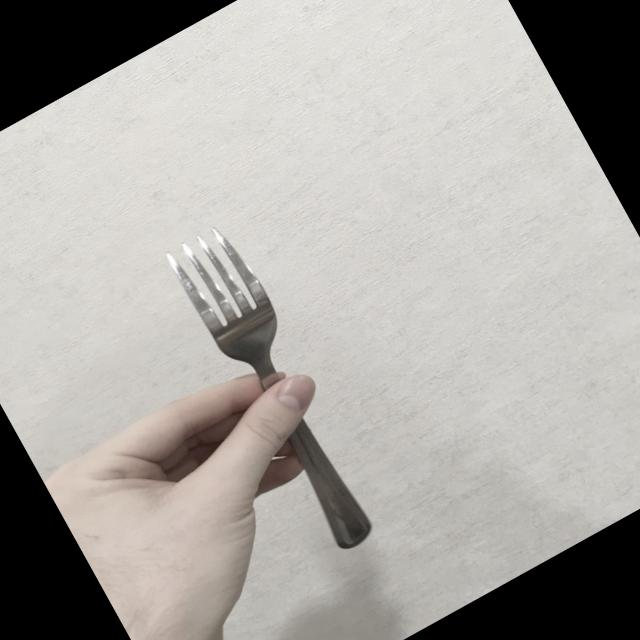fork: (160, 216, 396, 561)
